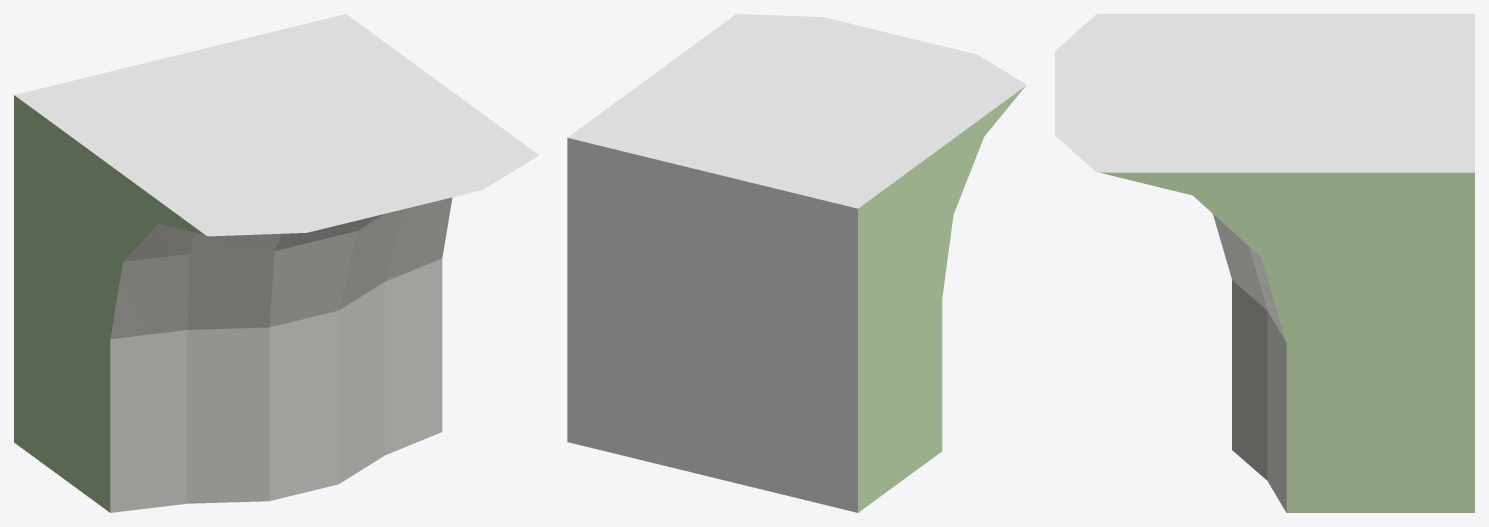
File: Wall_Straight_Deformed_Convex_2x2_Top.glb
3 views of the same model, side by side, from view 1: azimuth 30°, elevation 25°; view 2: azimuth 150°, elevation 25°; view 3: azimuth 270°, elevation 25° (orthographic). The views are drawn at different scales.
Parts seen in each view (by area): view 1: Wall_Straight_Deformed_Convex_2x2_Top; view 2: Wall_Straight_Deformed_Convex_2x2_Top; view 3: Wall_Straight_Deformed_Convex_2x2_Top.
Boxes of the visible parts, left/top/right/bottom form: Wall_Straight_Deformed_Convex_2x2_Top: left=14, top=14, right=538, bottom=512; Wall_Straight_Deformed_Convex_2x2_Top: left=567, top=14, right=1026, bottom=512; Wall_Straight_Deformed_Convex_2x2_Top: left=1055, top=14, right=1474, bottom=512.
Bounding box in the file's own units: 200 × 200 × 224.
